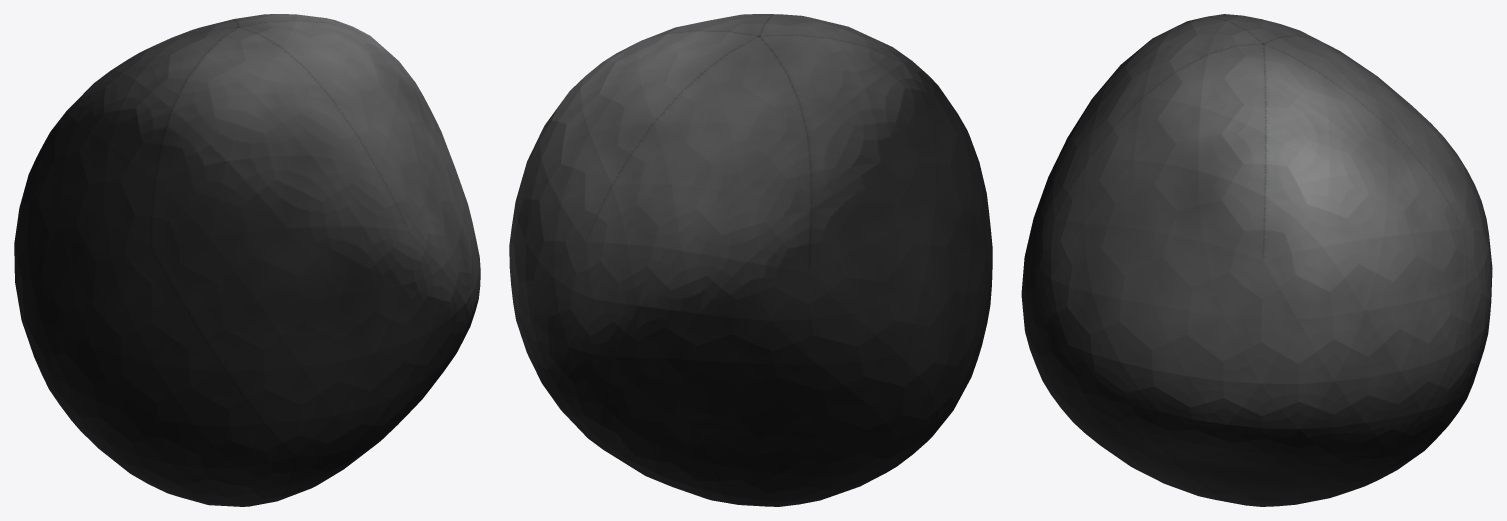
File: Rock2.fbx
3 renders of one model, left to right at view 1: azimuth 30°, elevation 25°; view 2: azimuth 150°, elevation 25°; view 3: azimuth 270°, elevation 25°, orthographic.
Visible parts, largest first — view 1: Icosphere; view 2: Icosphere; view 3: Icosphere.
Boxes of the visible parts, x1,y1,x2,y2 form: Icosphere: [14, 14, 480, 506]; Icosphere: [509, 14, 992, 506]; Icosphere: [1021, 14, 1492, 506].
Bounding box in the file's own units: 195 × 207 × 193.
Materials: 1 (1 with a texture image).
